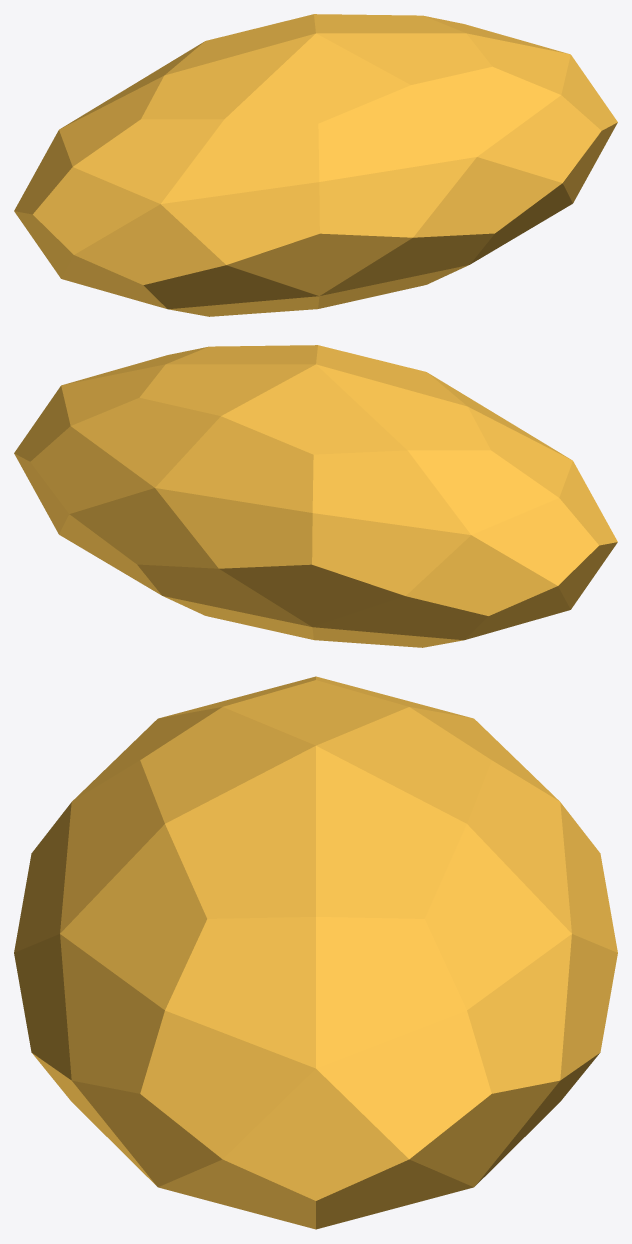
Rendered from Bread.fbx.
The picture shows the model from 3 angles, top to bottom: view 1: azimuth 30°, elevation 25°; view 2: azimuth 150°, elevation 25°; view 3: azimuth 270°, elevation 25°; orthographic projection. The views are drawn at different scales.
Visible parts, largest first — view 1: Bread; view 2: Bread; view 3: Bread.
Boxes of the visible parts, bbox=[...] form: Bread: bbox=[14, 14, 617, 316]; Bread: bbox=[14, 345, 617, 647]; Bread: bbox=[14, 676, 617, 1229].
Bounding box in the file's own units: 100 × 41.45 × 59.47.
